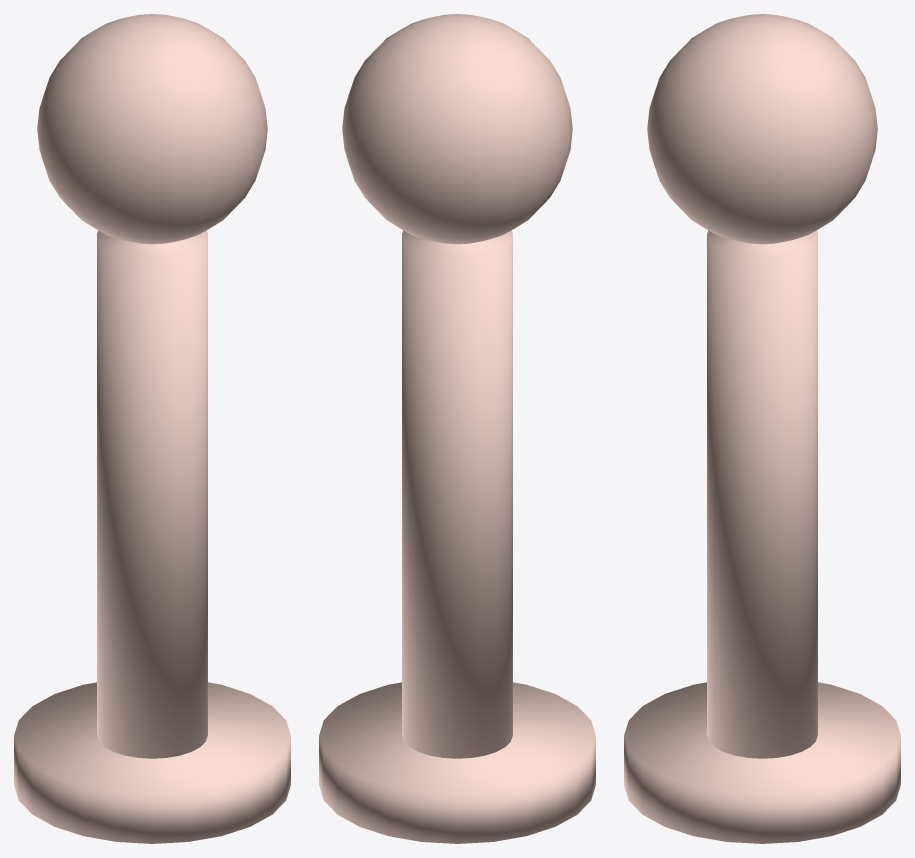
File: labret-rose-gold-585-ball-6mm-16g.glb
The picture shows the model from 3 angles, left to right: view 1: azimuth 30°, elevation 25°; view 2: azimuth 150°, elevation 25°; view 3: azimuth 270°, elevation 25°; orthographic projection.
Parts seen in each view (by area): view 1: labret_stud; view 2: labret_stud; view 3: labret_stud.
Part boxes in pixels (x1,y1,x2,y2): labret_stud: (14,14,290,843); labret_stud: (319,14,595,843); labret_stud: (624,14,900,843).
Bounding box in the file's own units: 0.003 × 0.0091 × 0.003.
